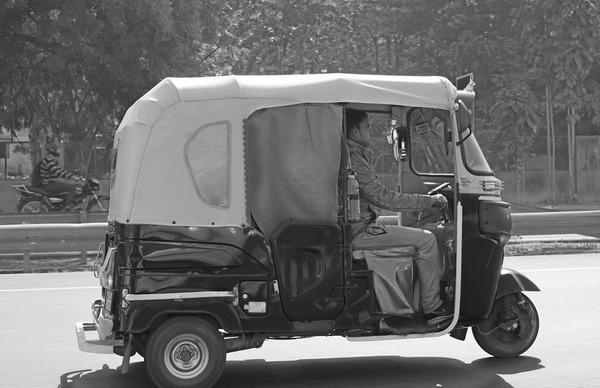keke: (80, 64, 542, 386)
